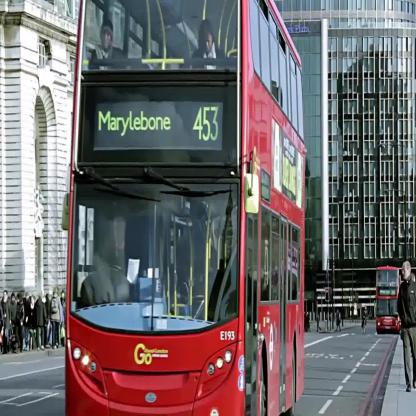bus: (64, 2, 304, 415), (376, 266, 402, 335)
